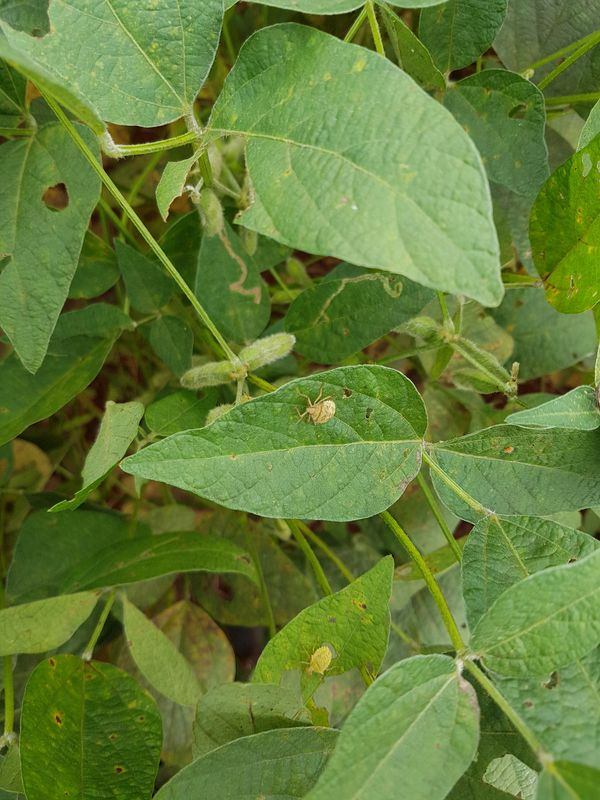Euschistus_heros_ninfa: (291, 381, 343, 431), (296, 641, 338, 681)
